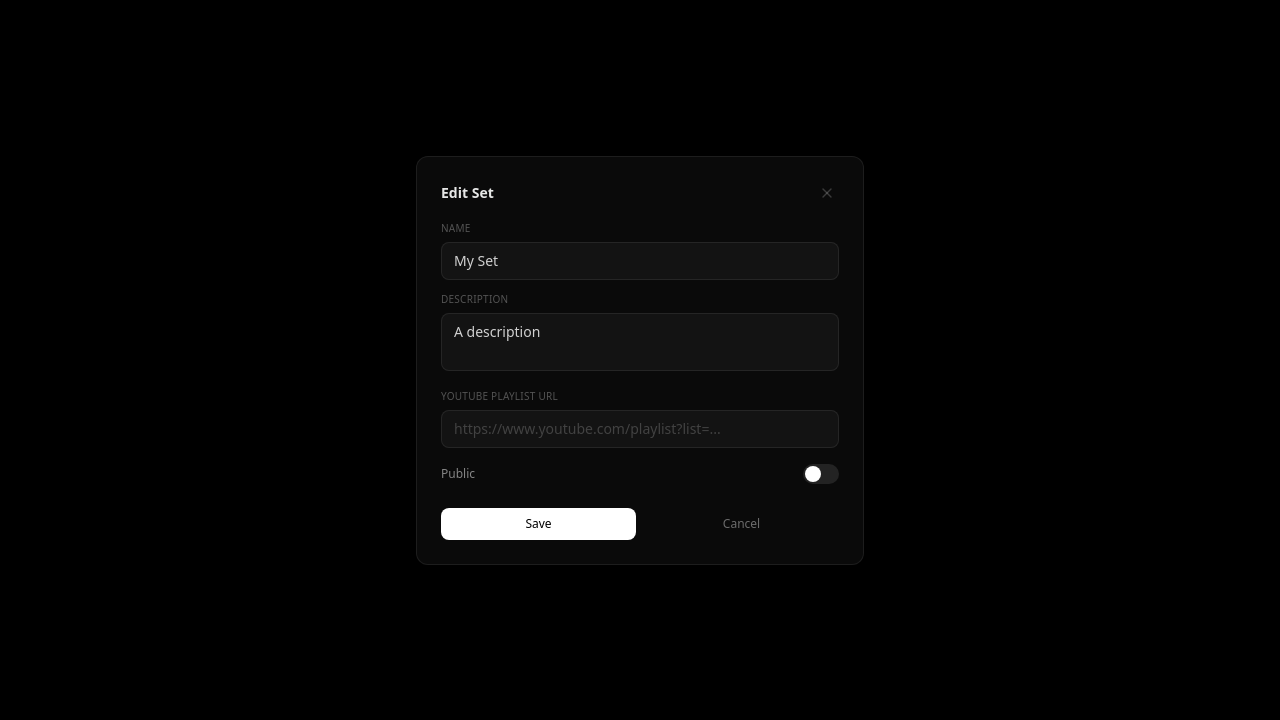
Test: SetEditModal › shows network error on fetch failure
This screenshot has width=1280, height=720.
Click the button "Save" at (538, 524), box x1=441 y1=508 x2=636 y2=540
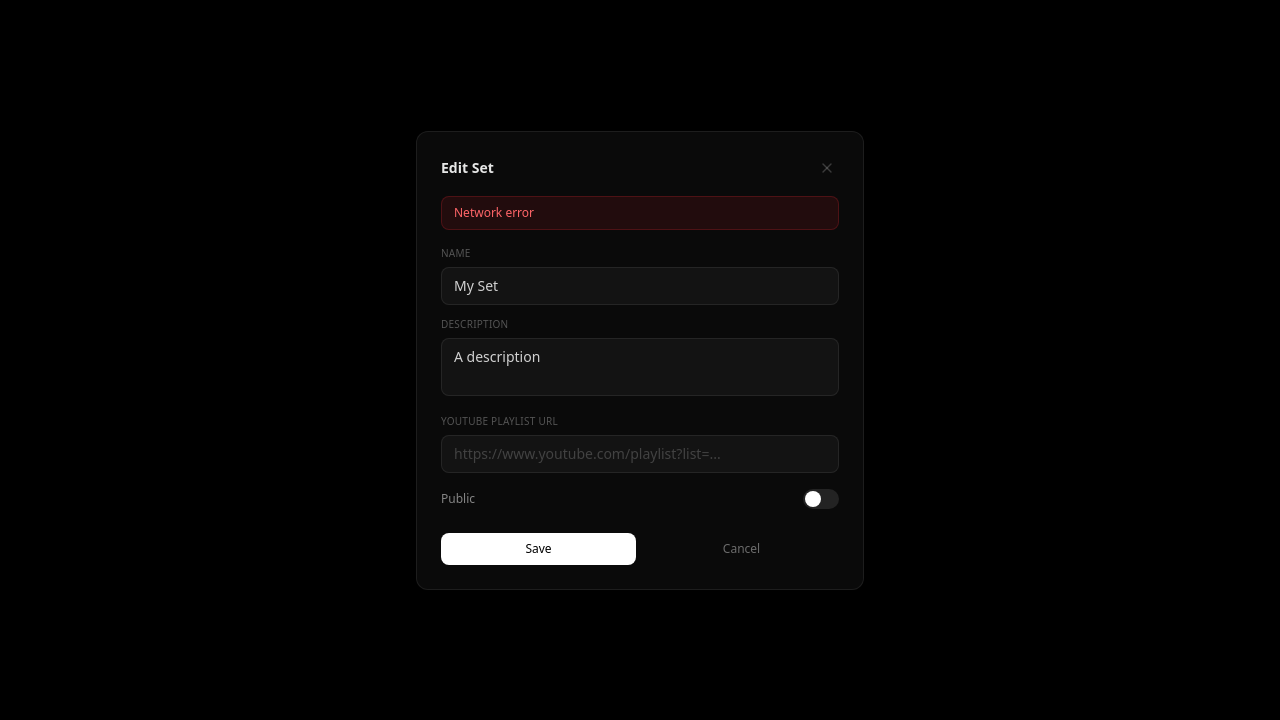
Now the text "Network error" is shown, box x1=441 y1=196 x2=839 y2=230
